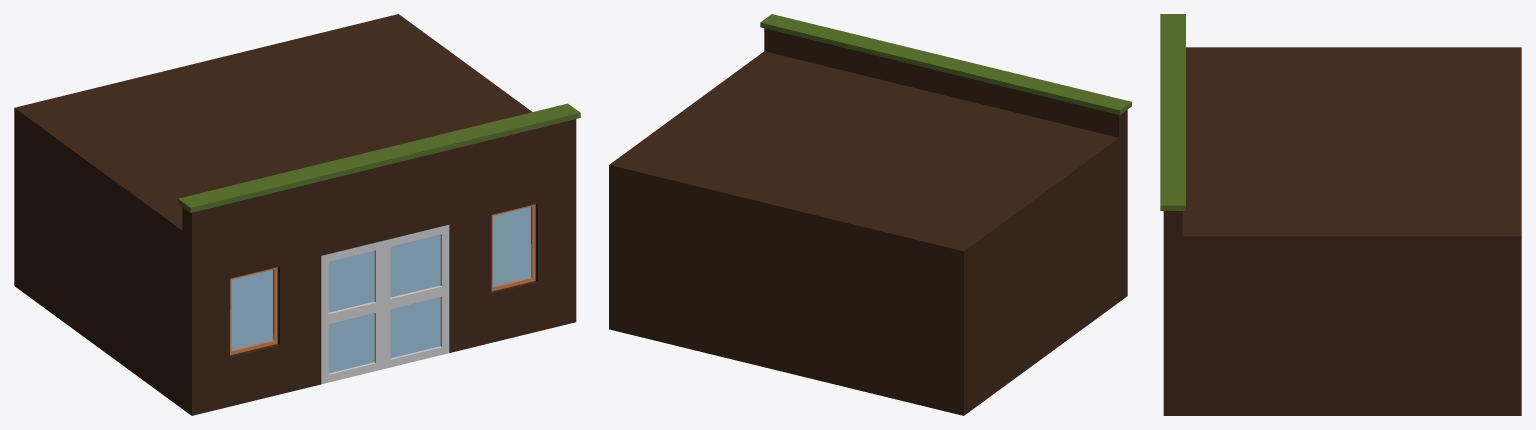
The model's file is commercial_house_07.fbx.
3 views of the same model, side by side, from view 1: azimuth 30°, elevation 25°; view 2: azimuth 150°, elevation 25°; view 3: azimuth 270°, elevation 25° (orthographic). The views are drawn at different scales.
Visible parts, largest first — view 1: Box030; view 2: Box030; view 3: Box030.
Boxes of the visible parts, x1,y1,x2,y2 form: Box030: (14, 14, 580, 415); Box030: (609, 14, 1131, 415); Box030: (1160, 14, 1521, 415).
Bounding box in the file's own units: 1015 × 522 × 807.
1 material, 1 textured.
